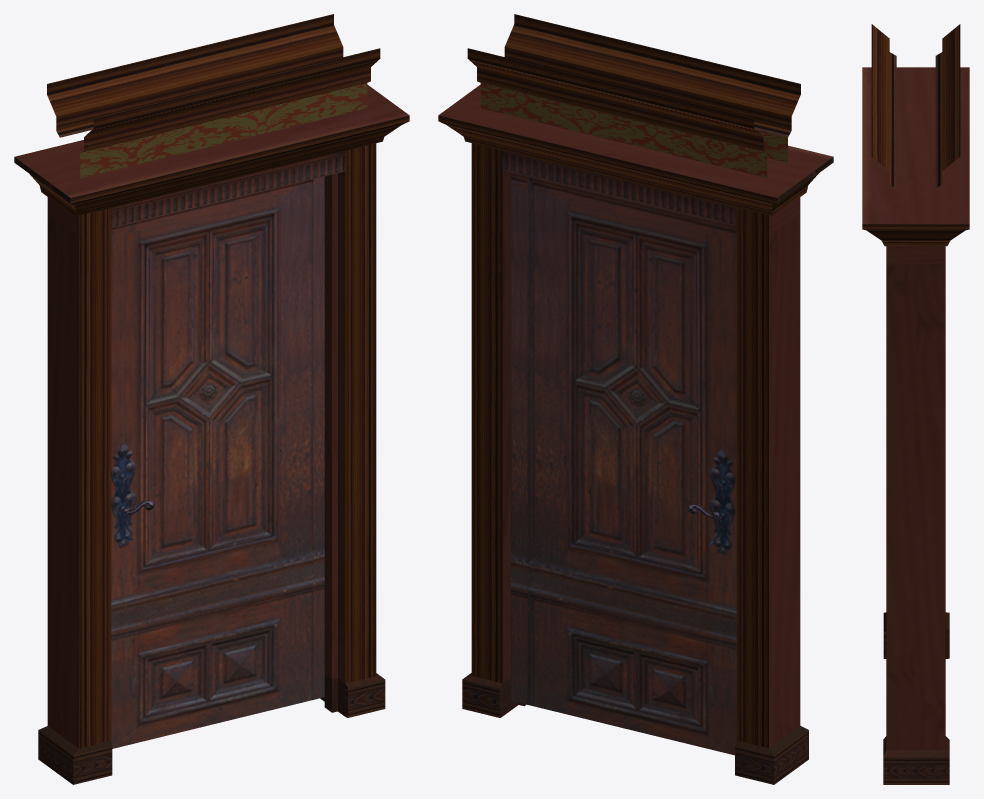
The model's file is Door2.fbx.
3 views of the same model, side by side, from view 1: azimuth 30°, elevation 25°; view 2: azimuth 150°, elevation 25°; view 3: azimuth 270°, elevation 25° (orthographic). The views are drawn at different scales.
Parts seen in each view (by area): view 1: DoorInterior, HallDOOR; view 2: HallDOOR, DoorInterior; view 3: DoorInterior.
Part boxes in pixels (box(x1,y1,x2,y2)): DoorInterior: box(14, 14, 409, 784); HallDOOR: box(111, 176, 324, 748); HallDOOR: box(511, 173, 736, 755); DoorInterior: box(438, 14, 833, 784); DoorInterior: box(862, 24, 969, 784).
Bounding box in the file's own units: 149 × 281 × 43.04.
